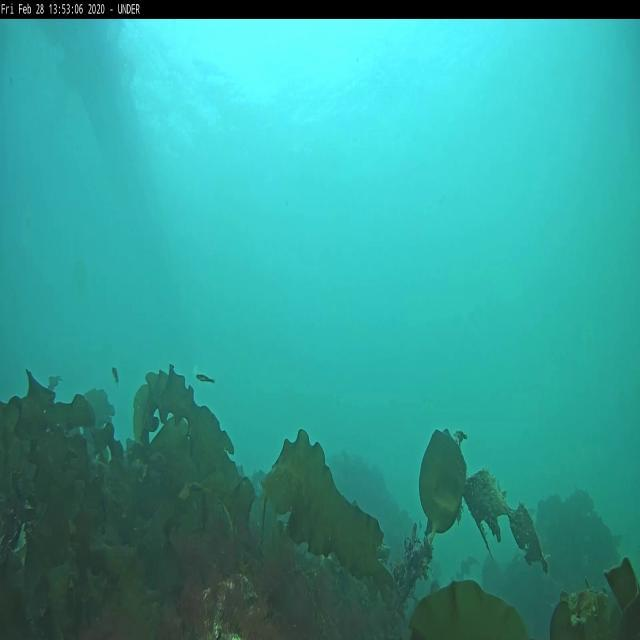fish: (195, 372, 215, 384), (110, 364, 120, 384)
